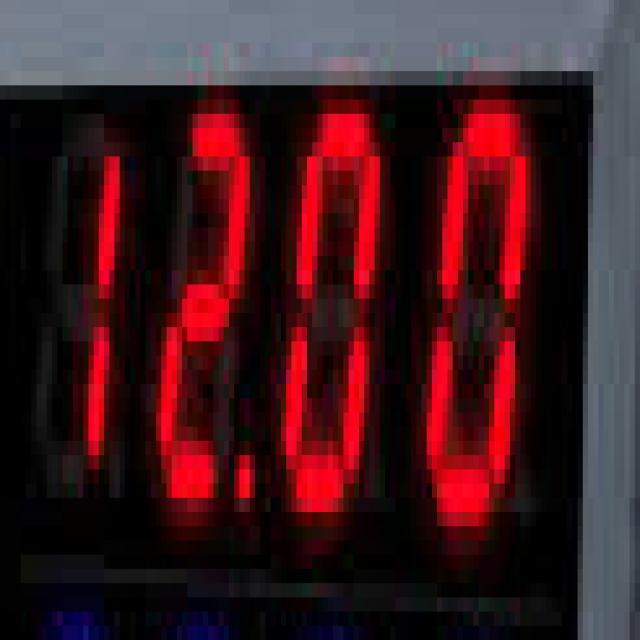.: (233, 450, 258, 512)
0: (285, 94, 417, 539), (441, 79, 551, 554)
1: (58, 72, 151, 515)
2: (160, 79, 266, 544)
screen: (1, 85, 580, 602)
